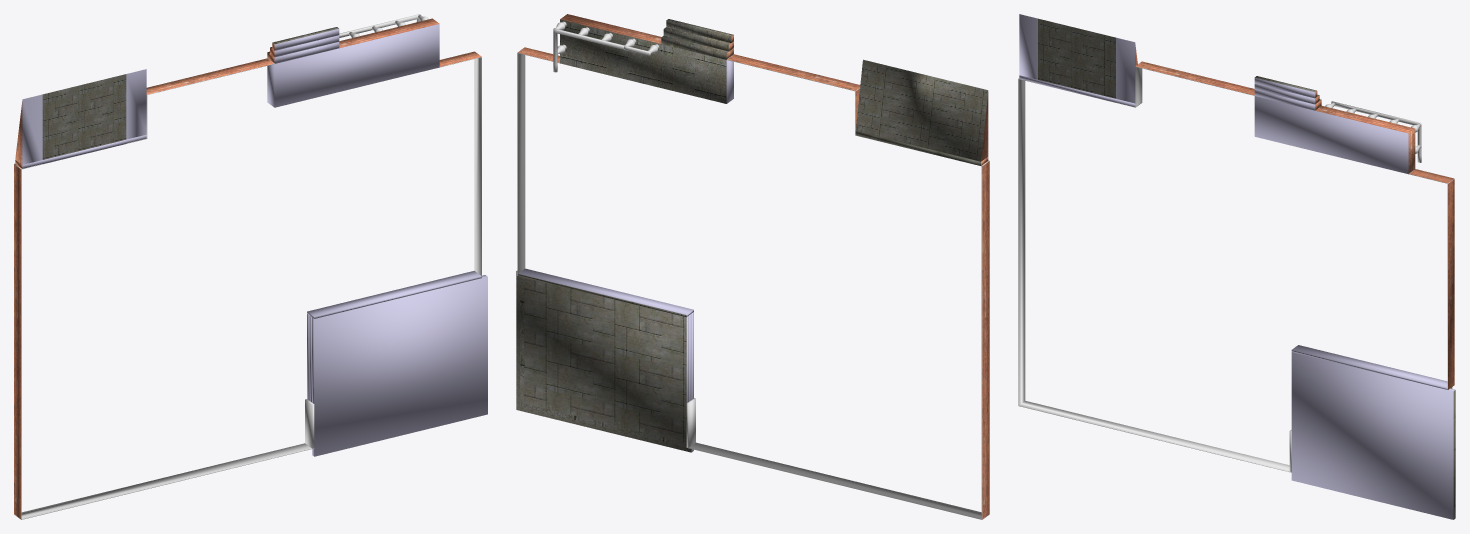
File: basement_tex_v3.fbx
3 renders of one model, left to right at view 1: azimuth 30°, elevation 25°; view 2: azimuth 150°, elevation 25°; view 3: azimuth 330°, elevation 25°, orthographic. The views are drawn at different scales.
Visible parts, largest first — view 1: Cube.001; view 2: Cube.001; view 3: Cube.001.
Boxes of the visible parts, <box> form: Cube.001: <box>14,14,487,519</box>; Cube.001: <box>516,14,989,519</box>; Cube.001: <box>1018,14,1455,519</box>.
Size of the model in its own units: 0.1116 by 0.098 by 0.00714.
